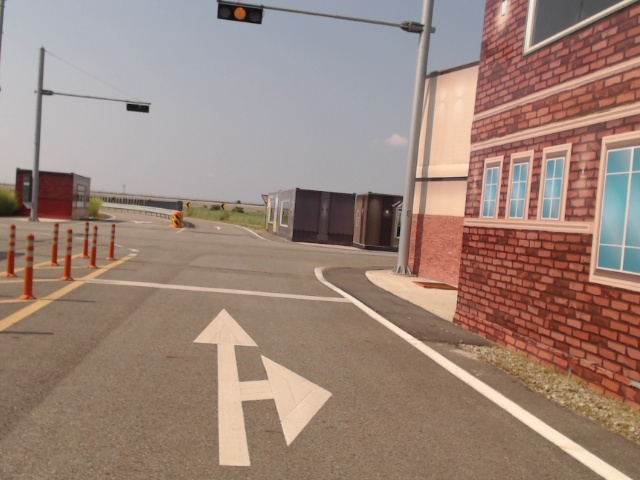orange_3: (216, 1, 264, 25)
